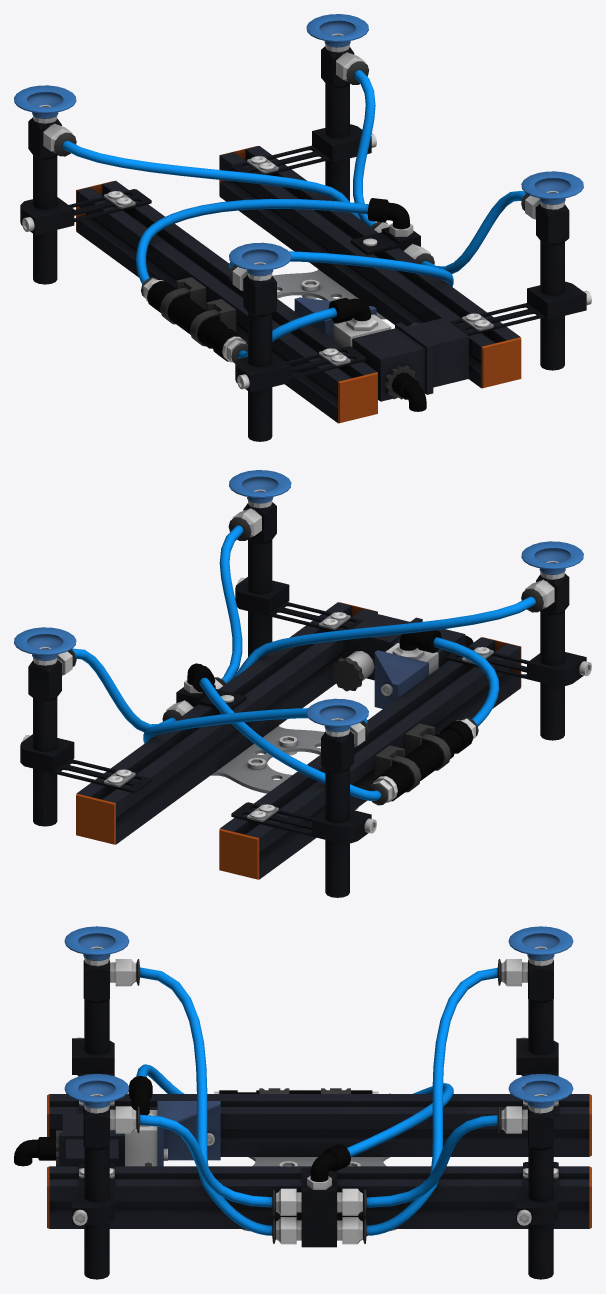
The model's file is Gripper.fbx.
3 views of the same model, one above another, from view 1: azimuth 30°, elevation 25°; view 2: azimuth 150°, elevation 25°; view 3: azimuth 270°, elevation 25° (orthographic). The views are drawn at different scales.
Visible parts, largest first — view 1: Gripper; view 2: Gripper; view 3: Gripper.
Part boxes in pixels (<box>): Gripper: <box>14,14,591,441</box>; Gripper: <box>14,470,591,897</box>; Gripper: <box>14,926,591,1279</box>.
Size of the model in its own units: 23.11 by 11.53 by 32.2.
1 material, 1 textured.
